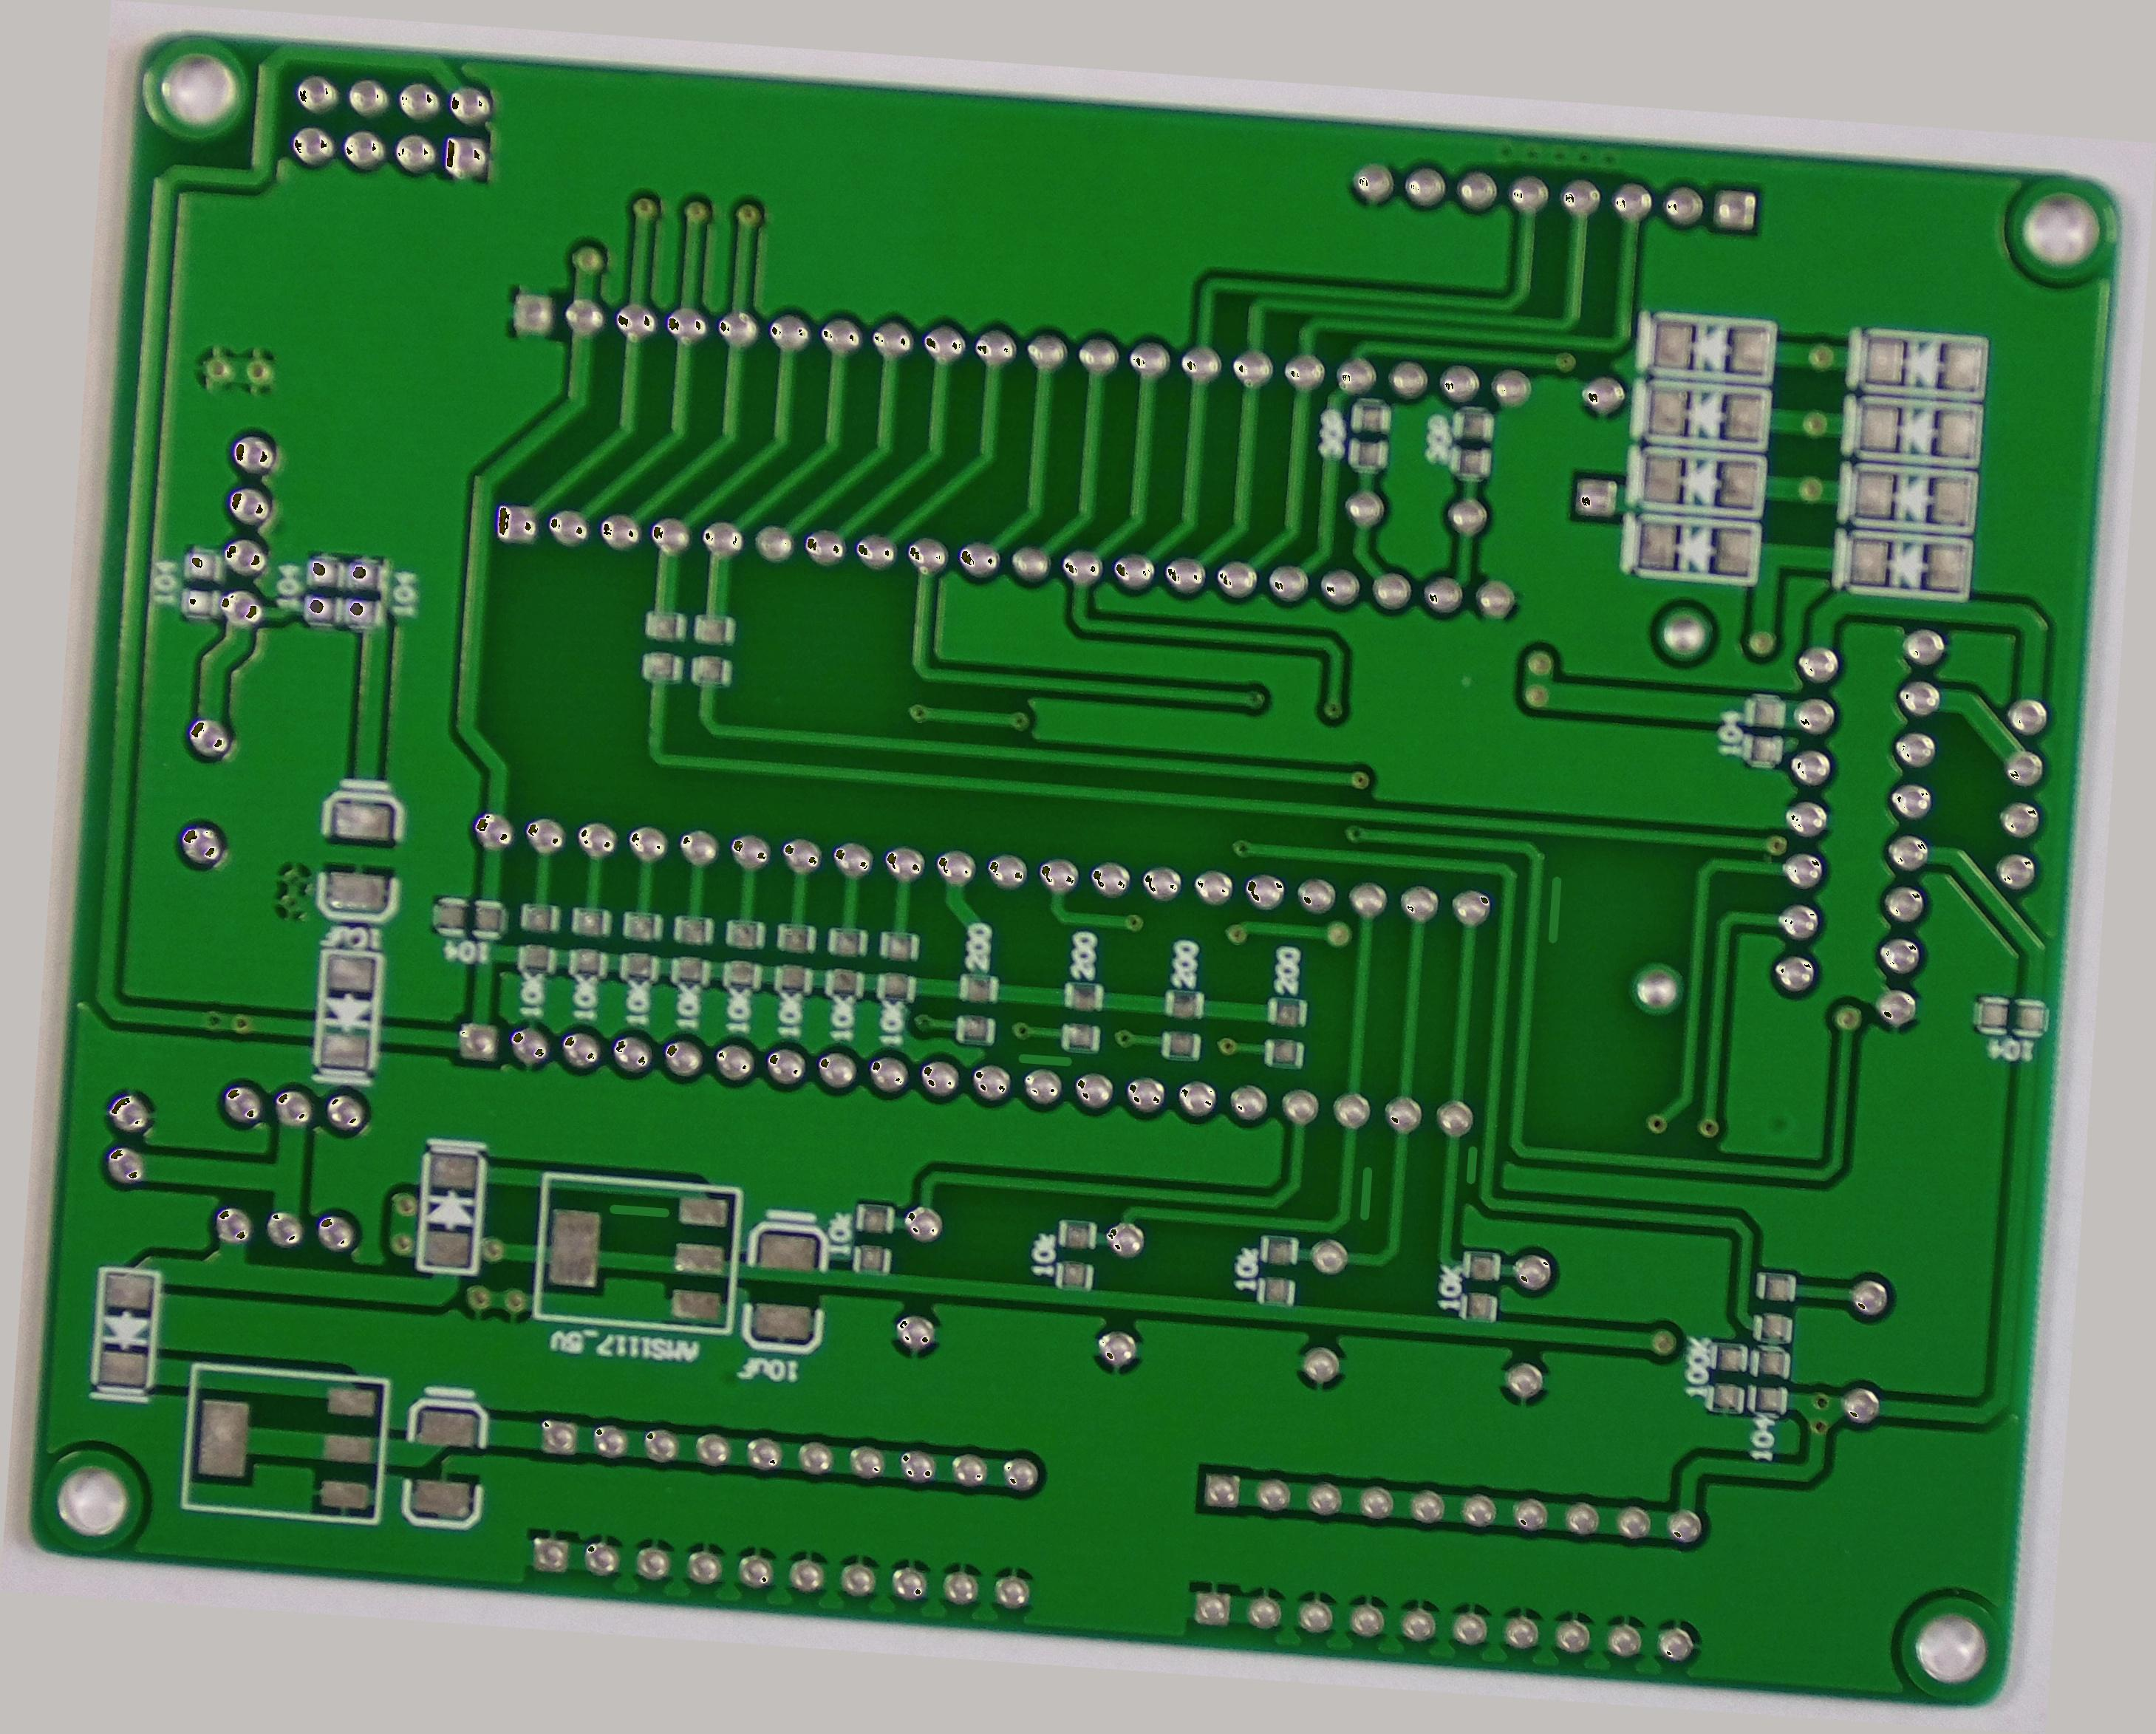spurious_copper: (1528, 869, 1581, 952), (600, 1180, 677, 1237), (1008, 1033, 1079, 1083), (1341, 1157, 1388, 1230), (1456, 1134, 1491, 1193)
